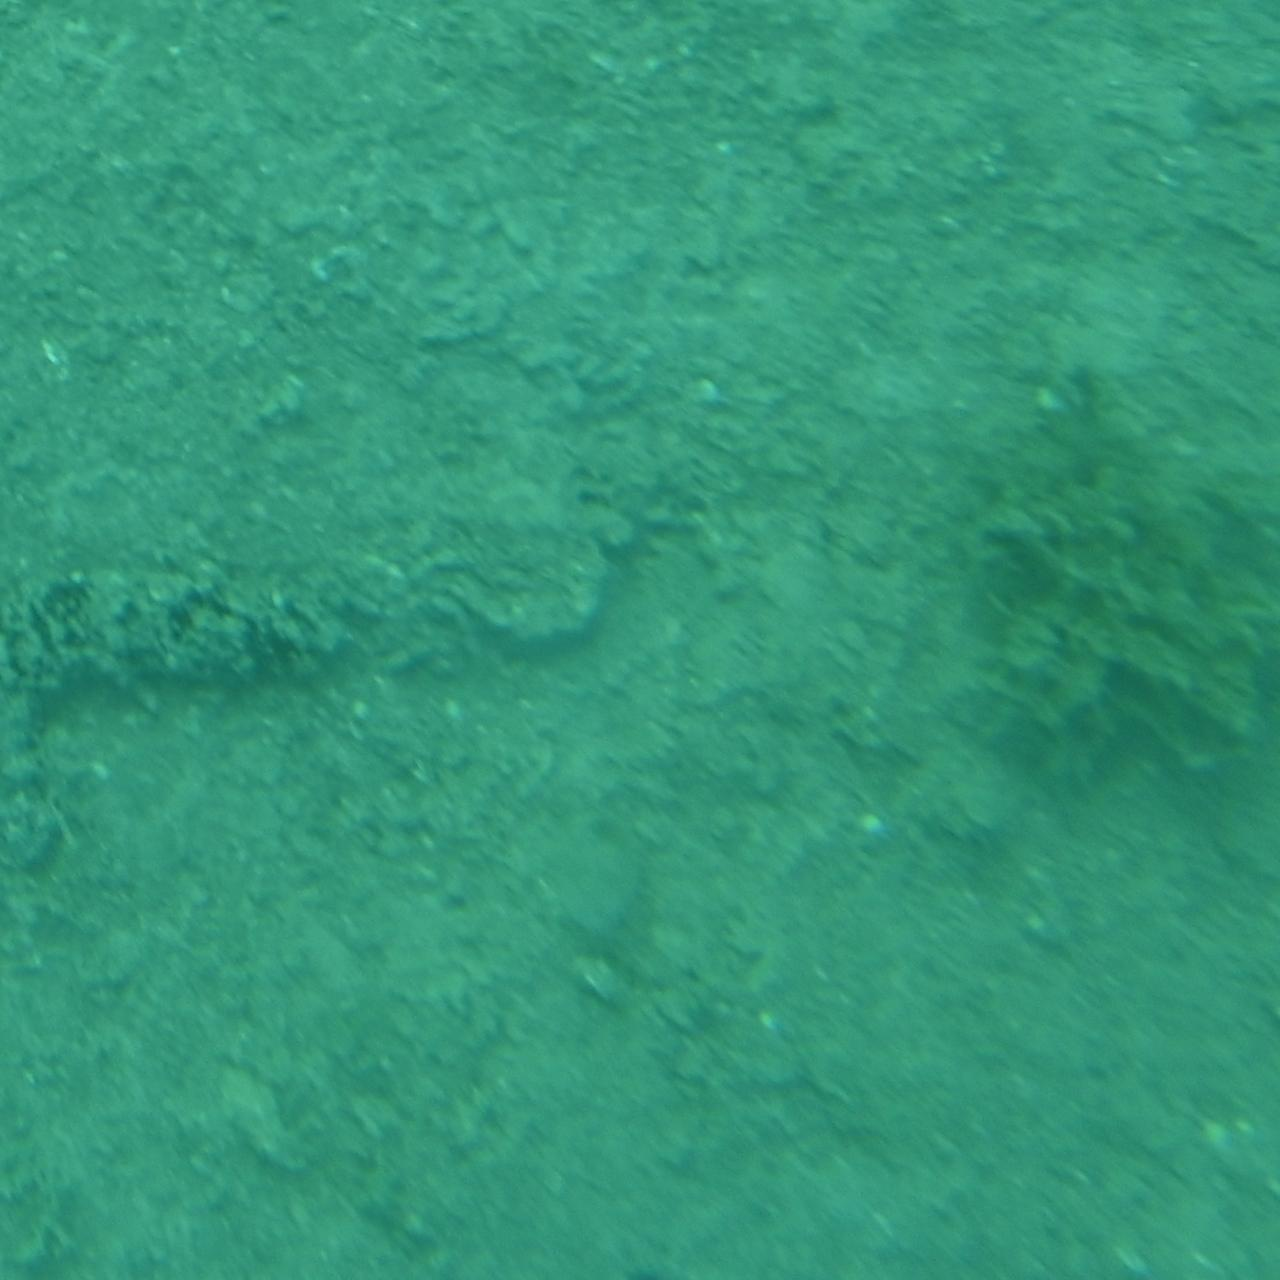Holothuria tubulosa: (0, 557, 333, 896)
Phaeophyceae -cfr Cystoseira-: (995, 411, 1280, 821)
